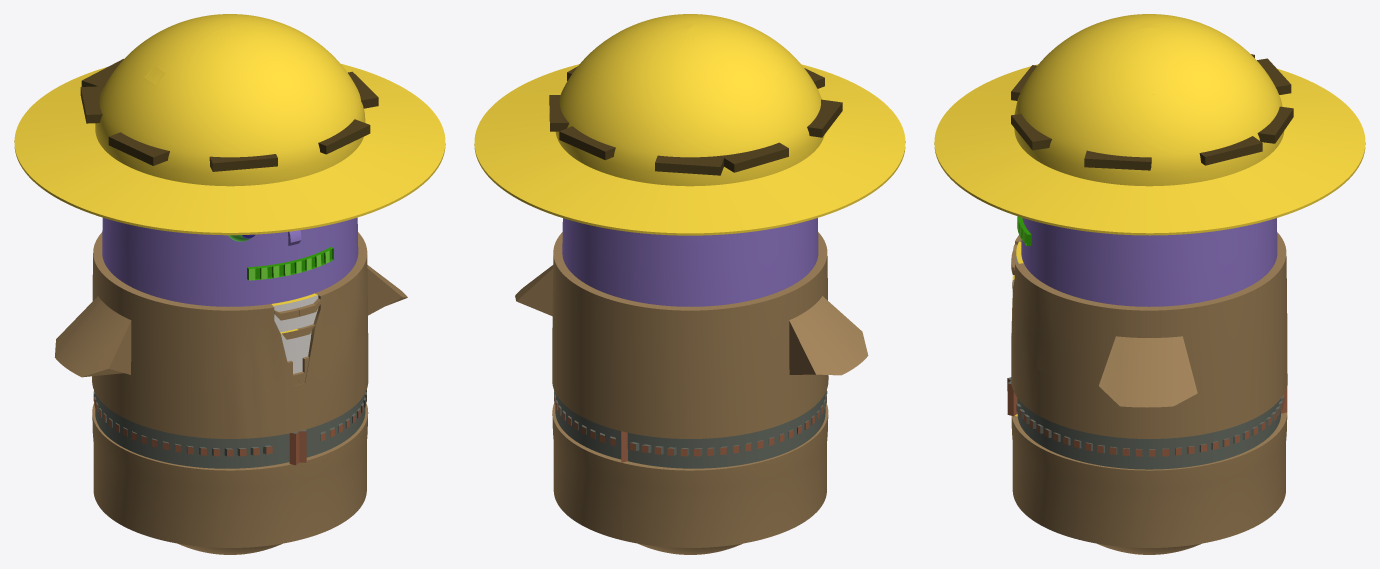
The model's file is FarmerFin.fbx.
The picture shows the model from 3 angles, left to right: view 1: azimuth 30°, elevation 25°; view 2: azimuth 150°, elevation 25°; view 3: azimuth 270°, elevation 25°; orthographic projection.
Visible parts, largest first — view 1: Sphere, Cube.002; view 2: Sphere, Cube.002; view 3: Sphere, Cube.002.
Part boxes in pixels (box(x1,y1,x2,y2)): Sphere: box(14, 14, 445, 554); Cube.002: box(80, 59, 378, 171); Sphere: box(474, 14, 905, 554); Cube.002: box(549, 66, 842, 175); Sphere: box(934, 14, 1365, 554); Cube.002: box(1011, 54, 1293, 170).
Bounding box in the file's own units: 302 × 399 × 302.
